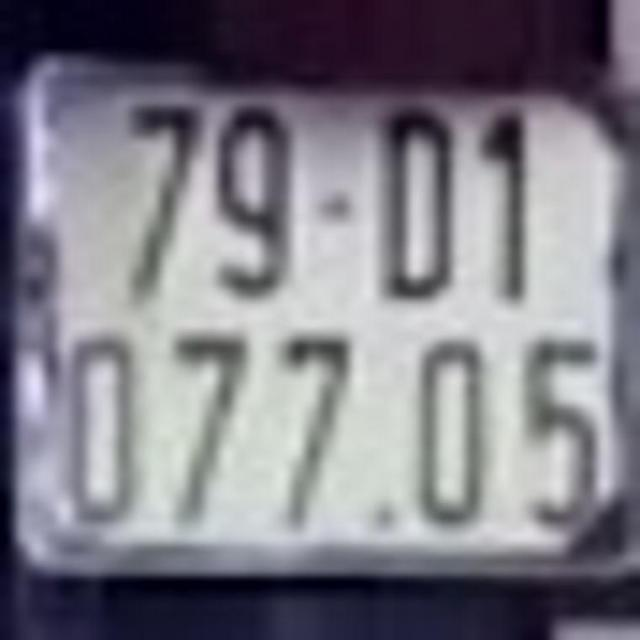0: (416, 332, 483, 530)
1: (484, 101, 531, 302)
5: (522, 334, 604, 532)
7: (169, 329, 247, 530), (123, 100, 202, 298), (282, 330, 356, 528)
9: (212, 92, 294, 298)
D: (390, 108, 460, 295), (72, 338, 134, 513)
